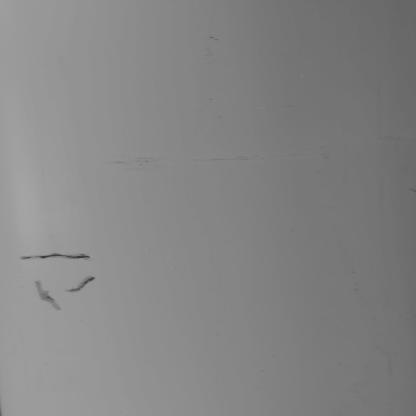fengxi: (33, 280, 60, 311), (21, 252, 88, 261), (66, 277, 100, 294)
